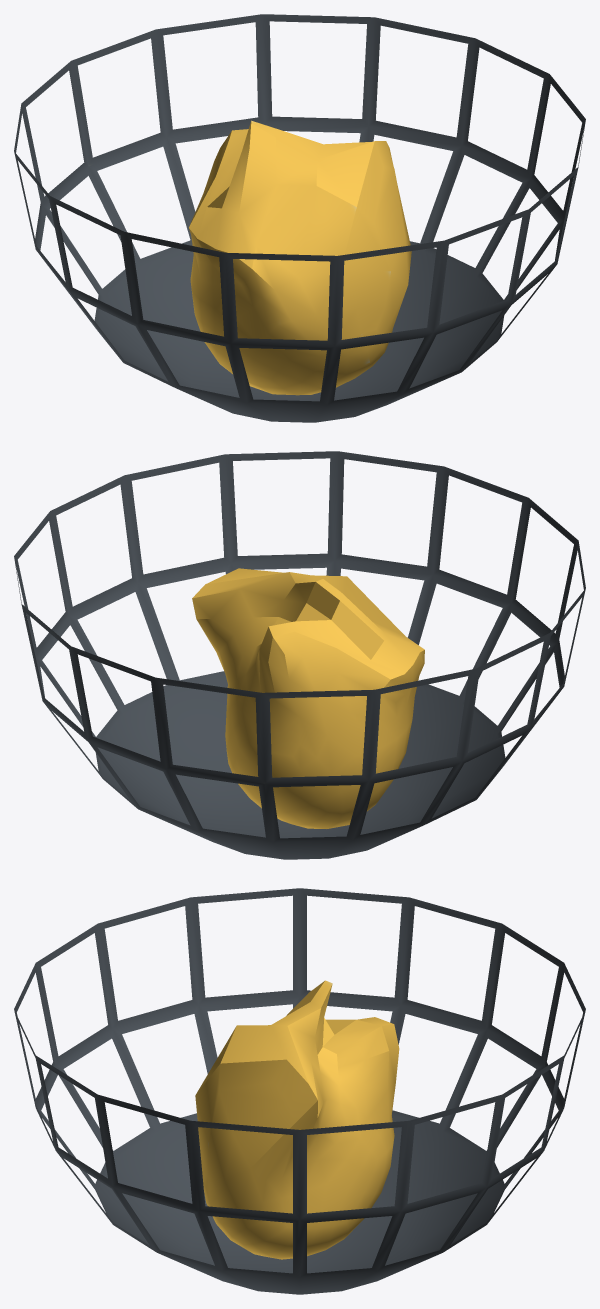
The model's file is fuego_camino.obj.
3 renders of one model, top to bottom at view 1: azimuth 30°, elevation 25°; view 2: azimuth 150°, elevation 25°; view 3: azimuth 270°, elevation 25°, orthographic.
Parts seen in each view (by area): view 1: fire_bowl_Mesh; view 2: fire_bowl_Mesh; view 3: fire_bowl_Mesh.
Part boxes in pixels (x1=…): fire_bowl_Mesh: x1=14, y1=14, x2=585, y2=422; fire_bowl_Mesh: x1=14, y1=451, x2=585, y2=859; fire_bowl_Mesh: x1=14, y1=888, x2=585, y2=1294.
Bounding box in the file's own units: 7.73 × 4.03 × 7.73.
1 material, 1 textured.
